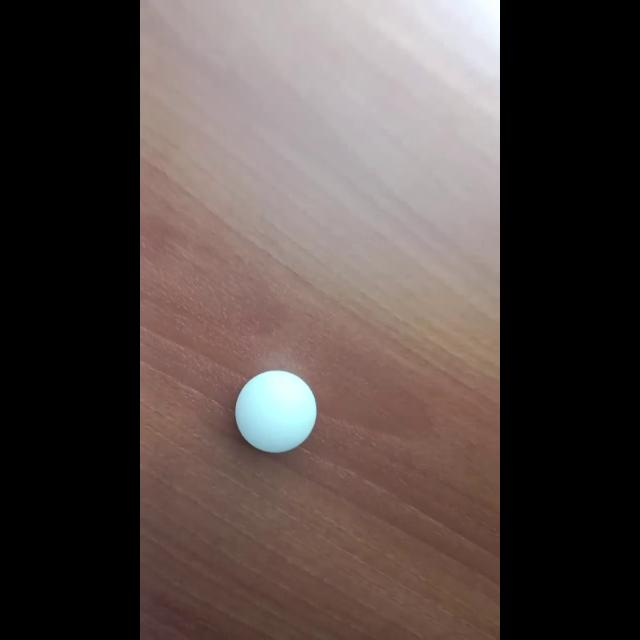white ball: (235, 370, 318, 454)
